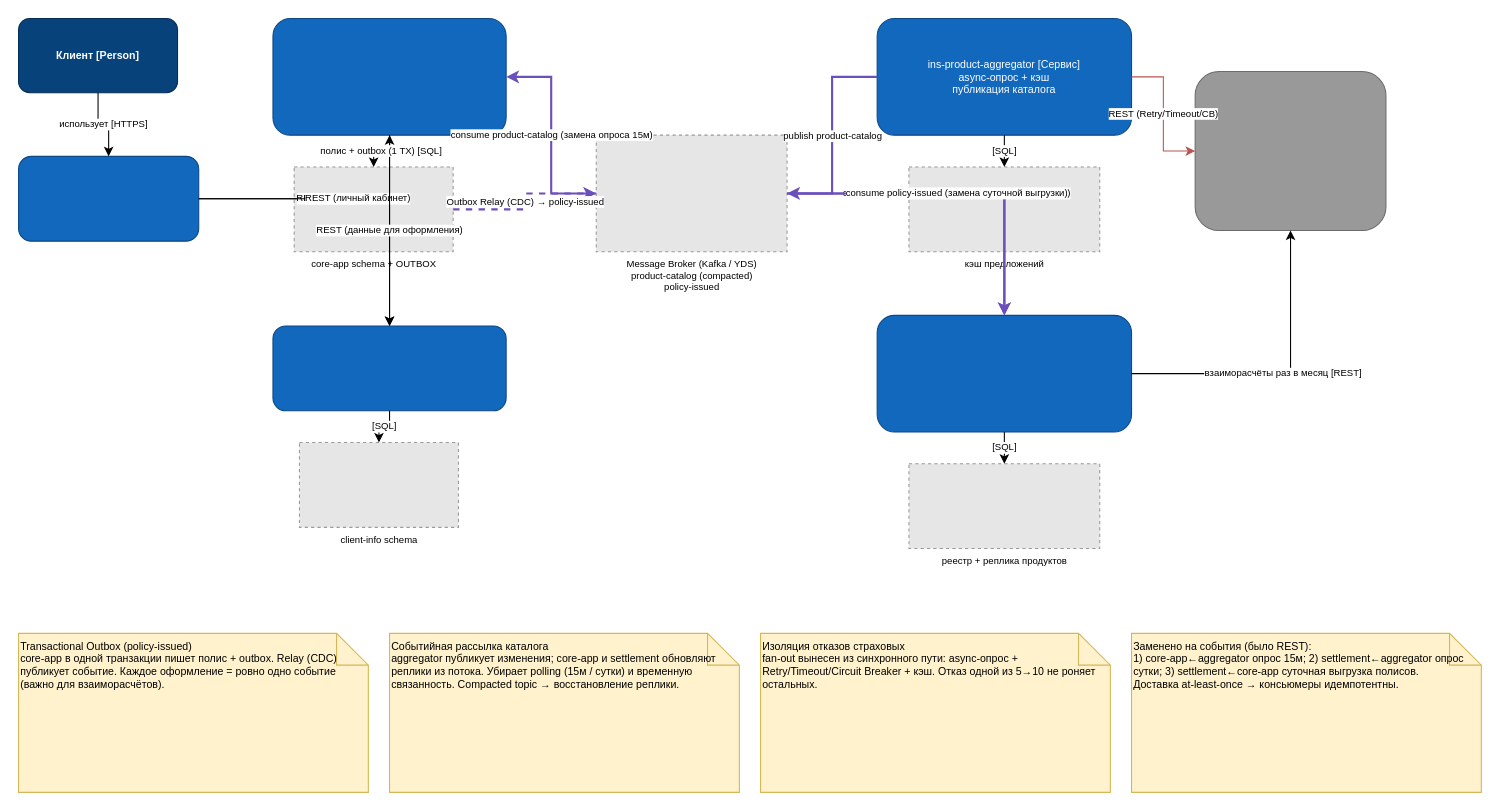
The diagram is 1500 pixels wide and 811 high, and some of its shapes have lost their labels. Grey dashed boxes stand in for pictures. The centre of each missing label's shape, as x and y in pixels:
client-info [Сервис] клиентские данные: [389,368]
core-app [Монолит] оформление, каталог + реплика продуктов + Outbox: [389,76]
ins-comp-settlement [Сервис] инкрементальный реестр + реплика продуктов: [1004,373]
Веб-приложение [SPA]: [108,198]
Страховые компании (5→10) внешние REST: [1290,150]
